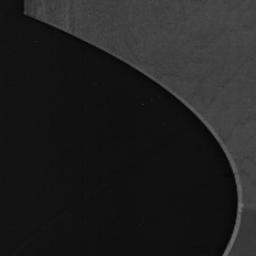Crescent gap: (25, 14, 237, 256)
